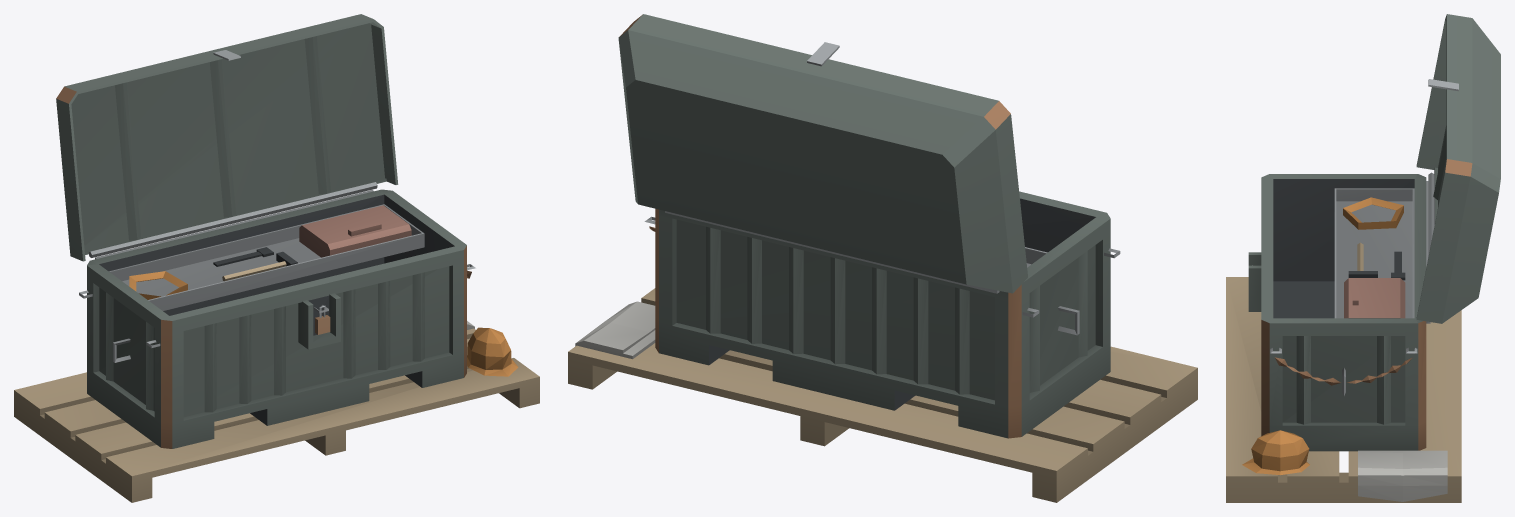
Rendered from vault.glb.
The picture shows the model from 3 angles, left to right: view 1: azimuth 30°, elevation 25°; view 2: azimuth 150°, elevation 25°; view 3: azimuth 270°, elevation 25°; orthographic projection. The views are drawn at different scales.
Parts seen in each view (by area): view 1: vault; view 2: vault; view 3: vault.
Part boxes in pixels (x1,y1,x2,y2): vault: (14, 14, 539, 502); vault: (568, 14, 1197, 502); vault: (1226, 14, 1500, 502).
Bounding box in the file's own units: 2.01 × 1.51 × 1.17.
